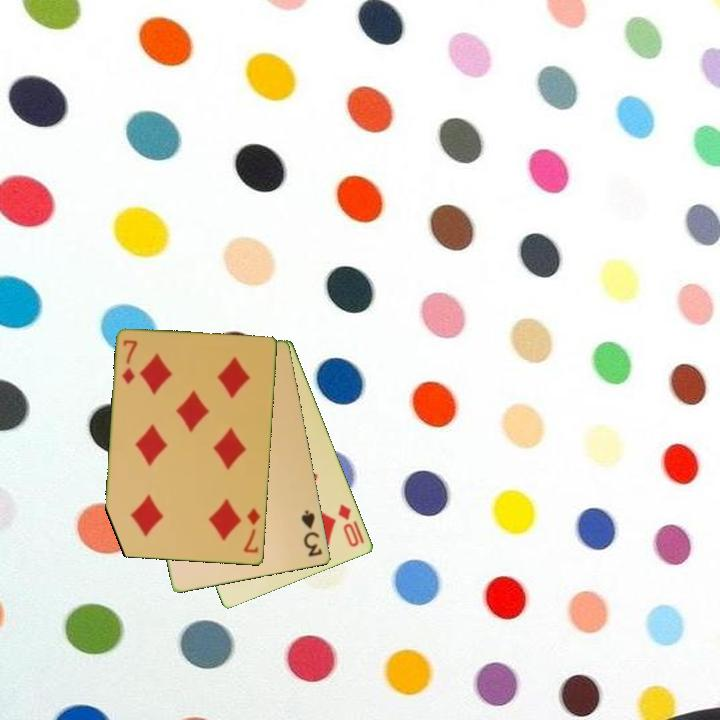10d: (334, 500, 362, 550)
3s: (298, 507, 325, 560)
7d: (240, 505, 263, 556), (118, 336, 140, 387)
